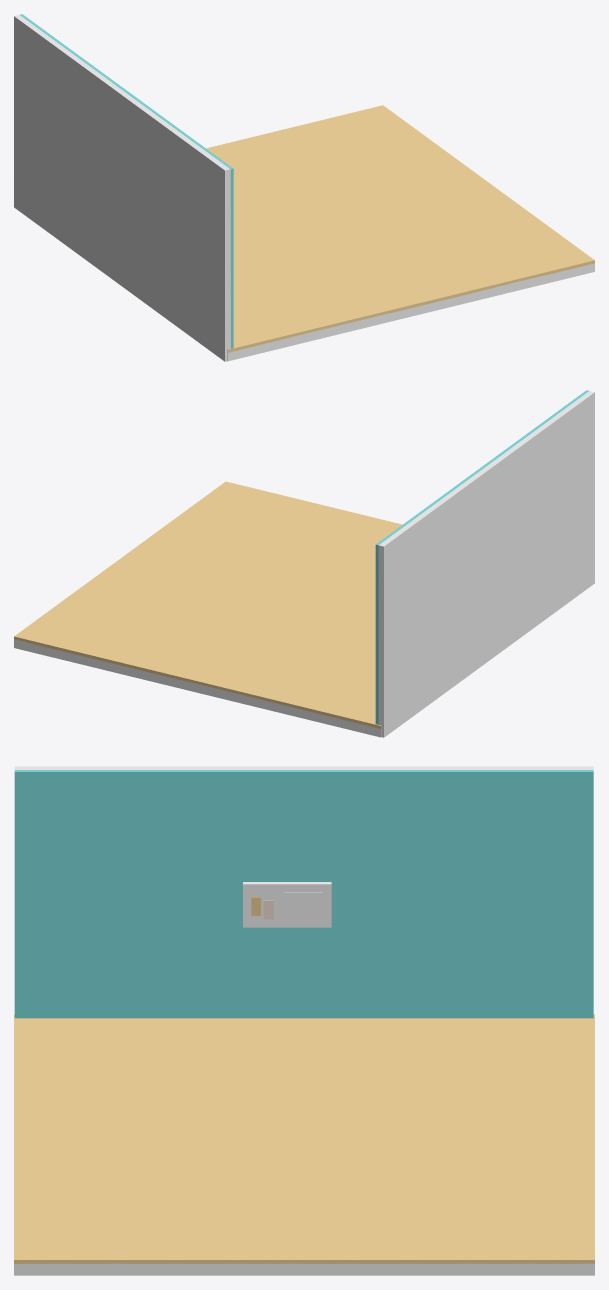
The picture shows the model from 3 angles, top to bottom: view 1: azimuth 30°, elevation 25°; view 2: azimuth 150°, elevation 25°; view 3: azimuth 270°, elevation 25°; orthographic projection. The views are drawn at different scales.
Bounding box in the file's own units: 2014 × 996 × 2000.
